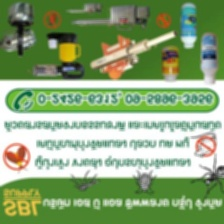insecticide: (198, 30, 220, 86), (178, 0, 198, 50), (159, 44, 180, 83)
